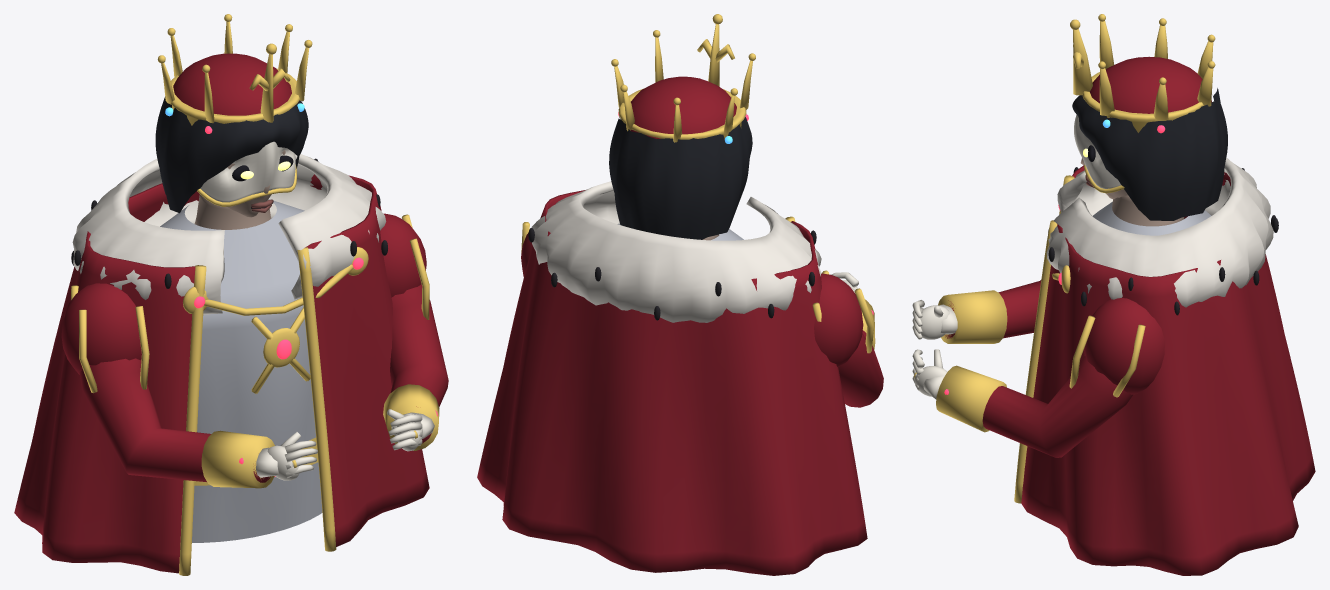
The model's file is mp_char_monarch.glb.
3 renders of one model, left to right at view 1: azimuth 30°, elevation 25°; view 2: azimuth 150°, elevation 25°; view 3: azimuth 270°, elevation 25°, orthographic. The views are drawn at different scales.
Parts seen in each view (by area): view 1: MonarchCrimsonMantle, MonarchEngravedBreastplate, MonarchErmineCollar, MonarchVelvetSleeve_L, MonarchNobleHair, MonarchPuffShoulder_L, MonarchCrownVelvetCap, MonarchVelvetSleeve_R, MantleGoldTrim_R, MonarchGildedCuff_L, MonarchVenetianMask, MantleGoldTrim_L (+12 smaller); view 2: MonarchCrimsonMantle, MonarchErmineCollar, MonarchNobleHair, MonarchCrownVelvetCap, MonarchPuffShoulder_L, MonarchVelvetSleeve_L, MonarchCrownBand; view 3: MonarchCrimsonMantle, MonarchErmineCollar, MonarchNobleHair, MonarchVelvetSleeve_R, MonarchPuffShoulder_R, MonarchCrownVelvetCap, MonarchGildedCuff_L, MonarchGildedCuff_R, MantleGoldTrim_R, MonarchVelvetSleeve_L, MonarchEngravedBreastplate, MonarchVenetianMask (+7 smaller).
Part boxes in pixels (x1,y1,x2,y2): MonarchCrimsonMantle: [14, 174, 429, 573]; MonarchEngravedBreastplate: [160, 199, 322, 542]; MonarchErmineCollar: [72, 154, 386, 314]; MonarchVelvetSleeve_L: [79, 358, 270, 482]; MonarchNobleHair: [155, 96, 308, 213]; MonarchPuffShoulder_L: [61, 283, 141, 374]; MonarchCrownVelvetCap: [173, 53, 291, 115]; MonarchVelvetSleeve_R: [390, 284, 448, 443]; MantleGoldTrim_R: [297, 247, 336, 551]; MonarchGildedCuff_L: [201, 430, 274, 488]; MonarchVenetianMask: [200, 141, 295, 202]; MantleGoldTrim_L: [179, 265, 206, 575]; MonarchCrimsonMantle: [477, 190, 867, 575]; MonarchErmineCollar: [531, 181, 821, 322]; MonarchNobleHair: [609, 117, 752, 239]; MonarchCrownVelvetCap: [630, 76, 736, 138]; MonarchPuffShoulder_L: [814, 273, 863, 367]; MonarchVelvetSleeve_L: [838, 330, 883, 407]; MonarchCrownBand: [618, 88, 746, 139]; MonarchCrimsonMantle: [1021, 165, 1315, 575]; MonarchErmineCollar: [1046, 158, 1273, 307]; MonarchNobleHair: [1072, 88, 1227, 220]; MonarchVelvetSleeve_R: [982, 356, 1132, 457]; MonarchPuffShoulder_R: [1084, 298, 1164, 394]; MonarchCrownVelvetCap: [1090, 56, 1211, 113]; MonarchGildedCuff_L: [938, 290, 1007, 343]; MonarchGildedCuff_R: [936, 365, 1006, 432]; MantleGoldTrim_R: [1014, 220, 1057, 503]; MonarchVelvetSleeve_L: [945, 280, 1041, 338]; MonarchEngravedBreastplate: [1092, 202, 1211, 235]; MonarchVenetianMask: [1074, 114, 1120, 188].
Bounding box in the file's own units: 0.7438 × 0.9198 × 0.718.
